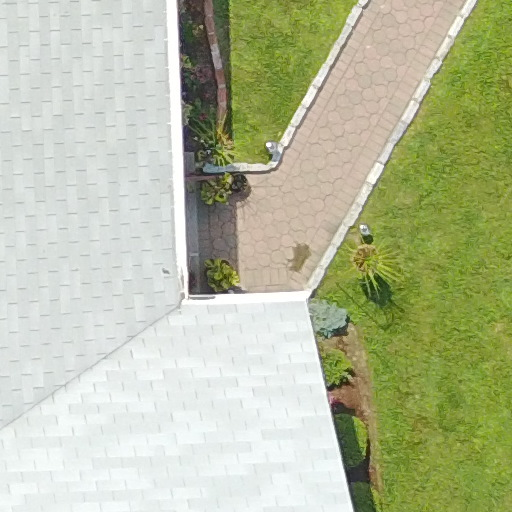flower pot: (191, 121, 235, 161), (353, 239, 386, 284), (203, 257, 246, 291), (229, 171, 253, 199)
